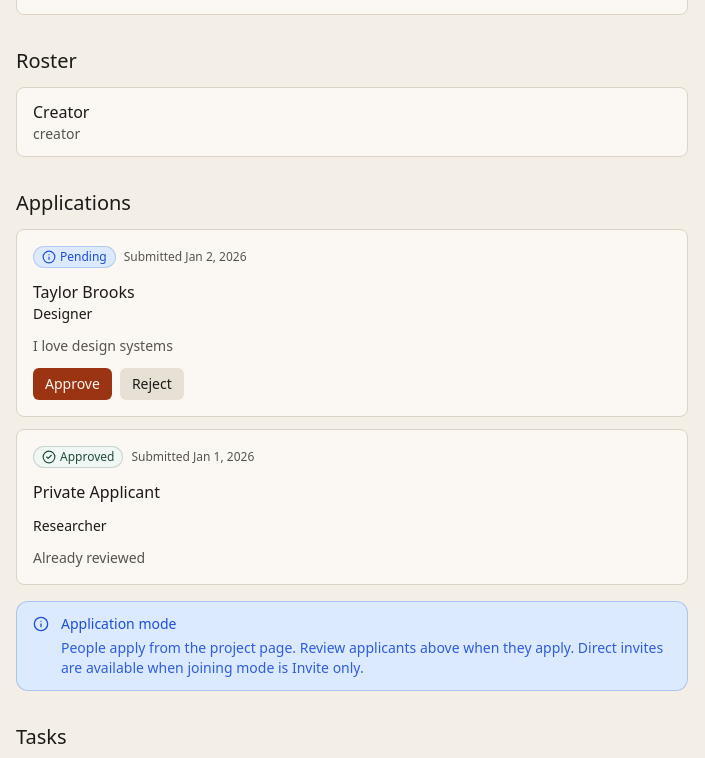
ProjectDetailPage › lets creators approve pending applications
(page scrolled)
Expected: the heading "Applications" is shown, x1=16 y1=189 x2=131 y2=216
Expected: the text "Designer" is shown, x1=33 y1=304 x2=92 y2=323
Click the button "Approve": [72, 384] box x1=33 y1=368 x2=112 y2=400
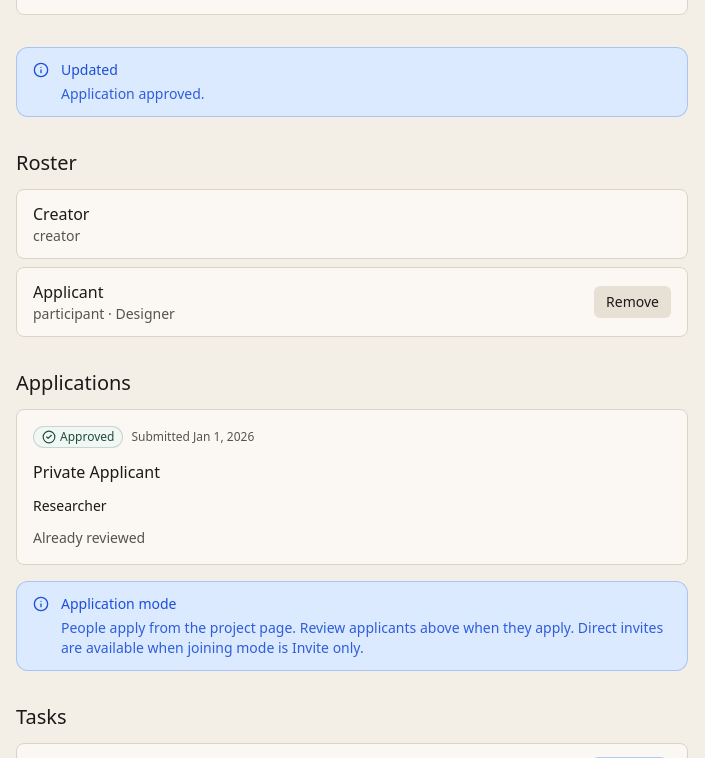
Expected: the text "Application approved." is shown, x1=61 y1=84 x2=204 y2=104
